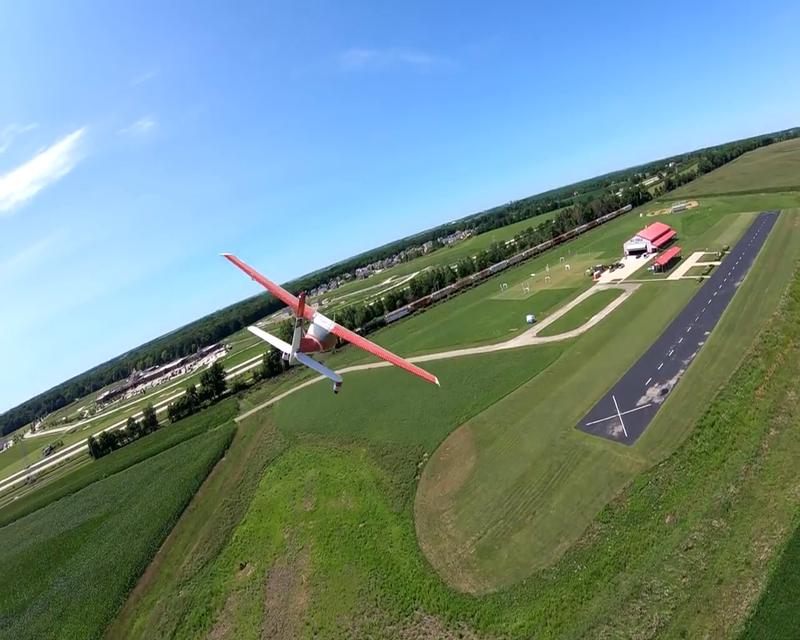UAV: (224, 253, 442, 392)
